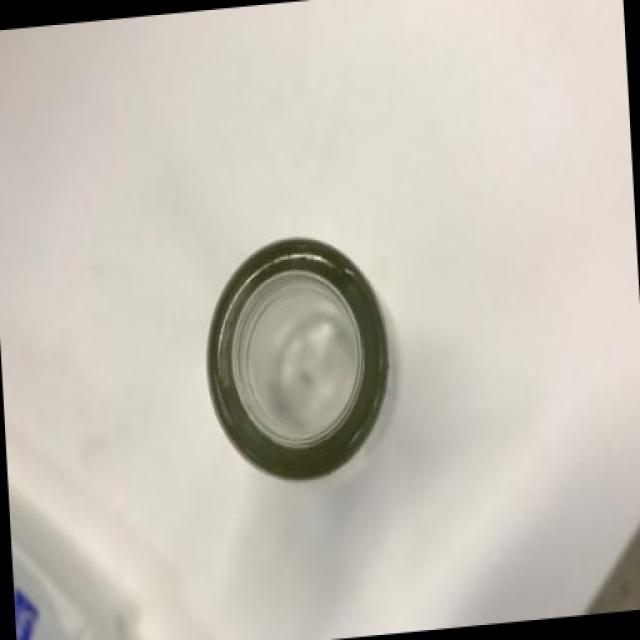vidrio: (138, 207, 448, 542)
